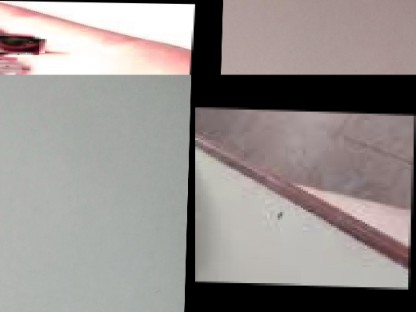ironball: (0, 34, 40, 54), (0, 59, 23, 72)
